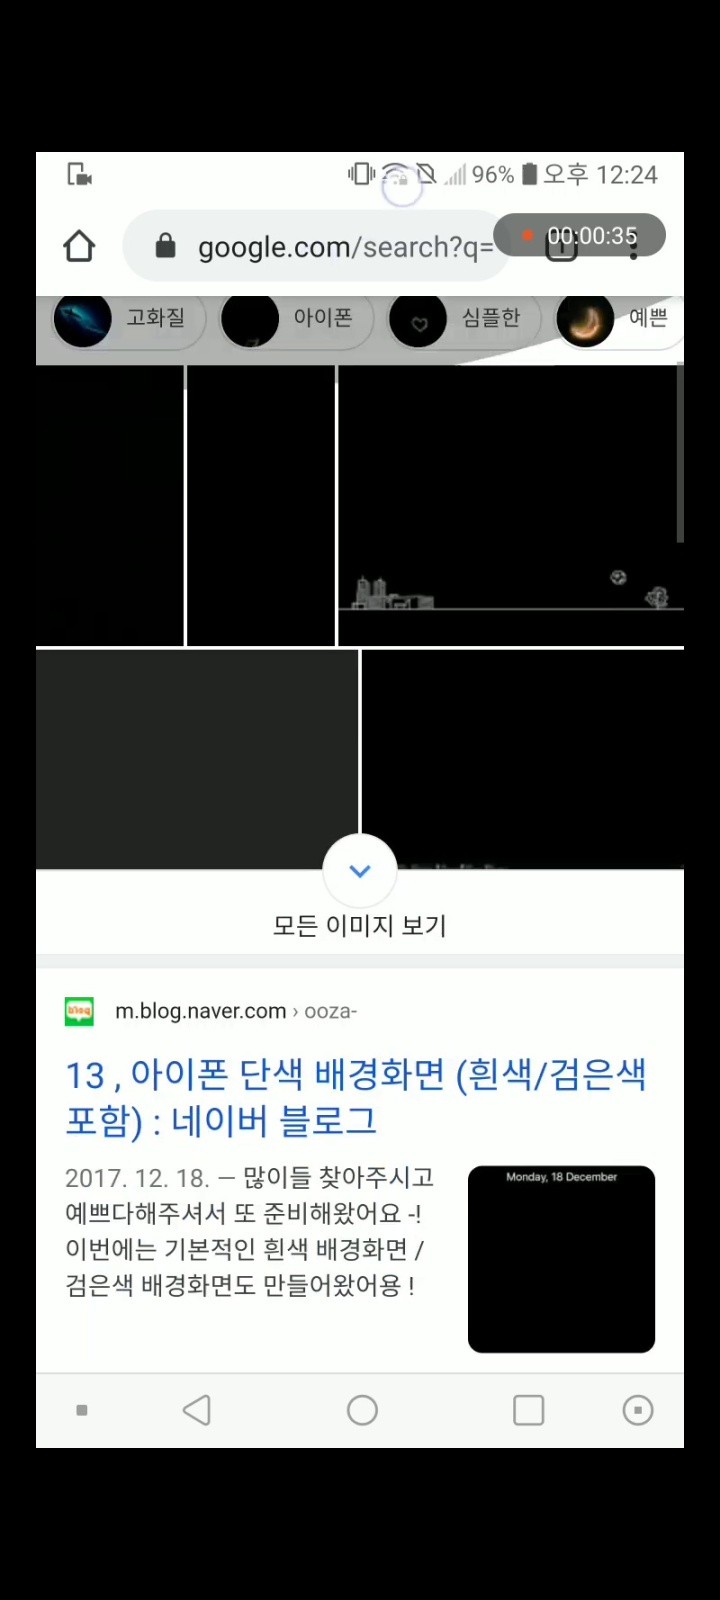Cursor: (380, 165, 425, 211)
